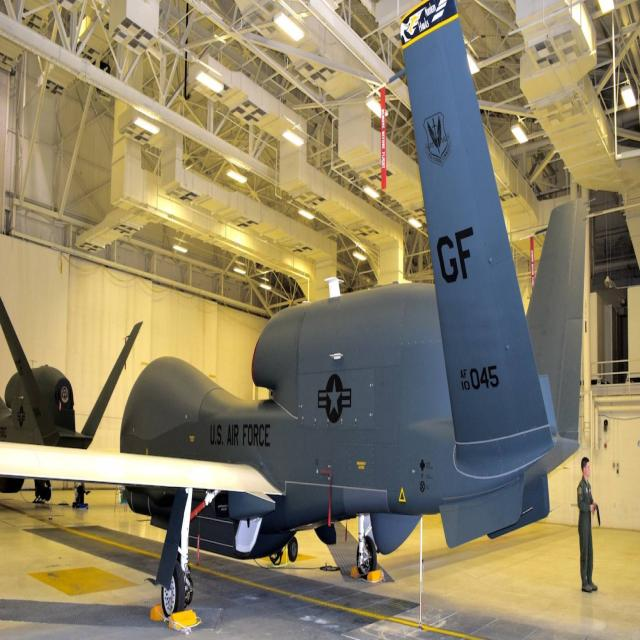MIL_Plane: (0, 0, 596, 622), (0, 296, 144, 508)
